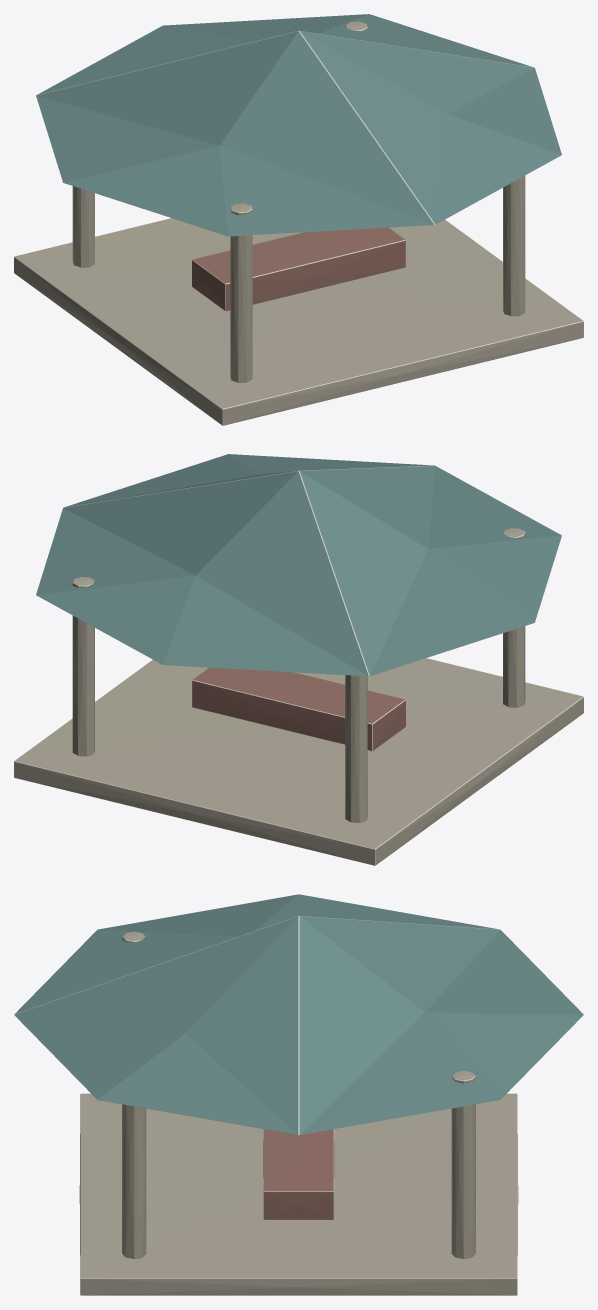
File: prop_pavilion.glb
The picture shows the model from 3 angles, top to bottom: view 1: azimuth 30°, elevation 25°; view 2: azimuth 150°, elevation 25°; view 3: azimuth 270°, elevation 25°; orthographic projection. The views are drawn at different scales.
Visible parts, largest first — view 1: scenery_teal, scenery_cream, scenery_coral; view 2: scenery_teal, scenery_cream, scenery_coral; view 3: scenery_teal, scenery_cream, scenery_coral.
Part boxes in pixels (<box>): scenery_teal: <box>36,14,561,236</box>; scenery_cream: <box>14,21,583,425</box>; scenery_coral: <box>192,227,405,311</box>; scenery_teal: <box>36,454,561,676</box>; scenery_cream: <box>14,528,583,865</box>; scenery_coral: <box>192,667,405,751</box>; scenery_teal: <box>14,894,583,1135</box>; scenery_cream: <box>79,931,518,1295</box>; scenery_coral: <box>263,1129,334,1219</box>.
Size of the model in its own units: 10.4 by 5.8 by 10.4.
